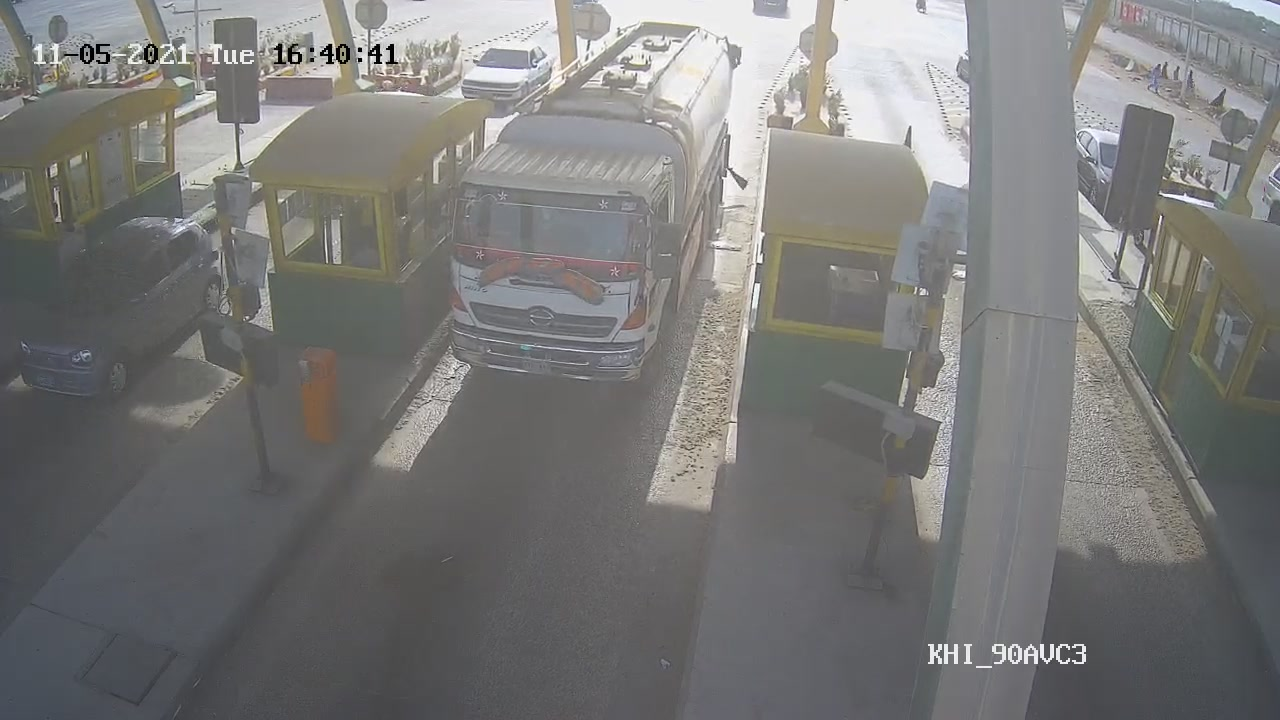F6: (442, 17, 739, 395)
